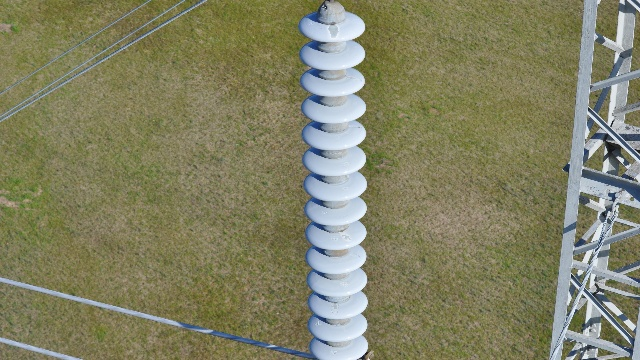insulator_unspecified: (296, 10, 369, 359)
pollution_flashover_local: (327, 23, 339, 39), (345, 73, 363, 83), (339, 230, 353, 241), (331, 301, 340, 314), (349, 123, 361, 130), (350, 252, 360, 259)
